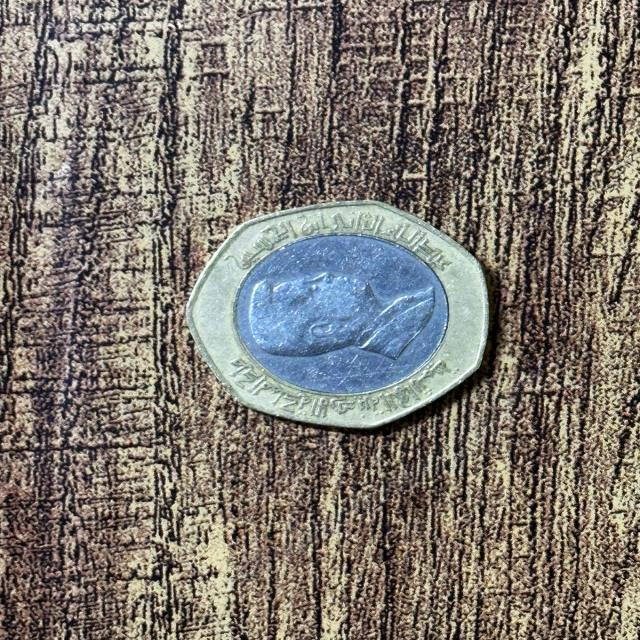50-coins: (185, 198, 491, 431)
